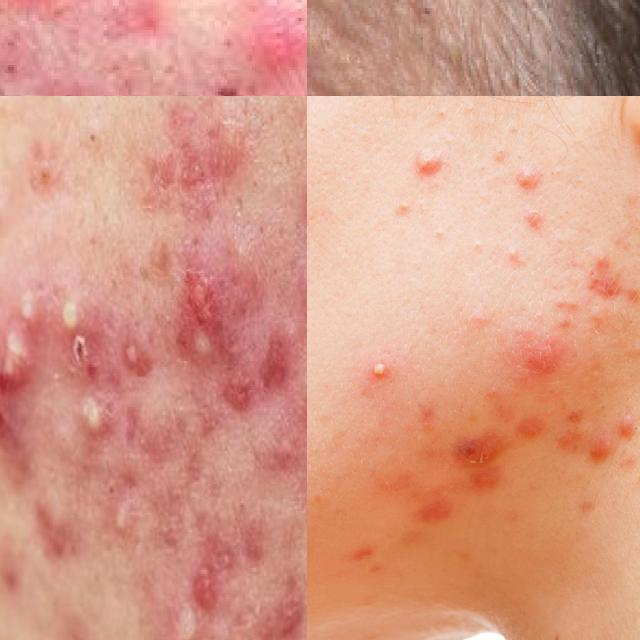acne_scars: (193, 526, 245, 614), (250, 329, 299, 411), (118, 392, 153, 470), (178, 141, 206, 202)
papule: (418, 438, 512, 479), (504, 344, 565, 402), (246, 24, 295, 95), (405, 158, 457, 202), (0, 0, 51, 30)
pustule: (330, 343, 431, 404), (77, 377, 112, 457), (52, 275, 85, 352)
sebo-crystan-conglo: (0, 288, 44, 449), (171, 275, 222, 402), (147, 594, 206, 640)
